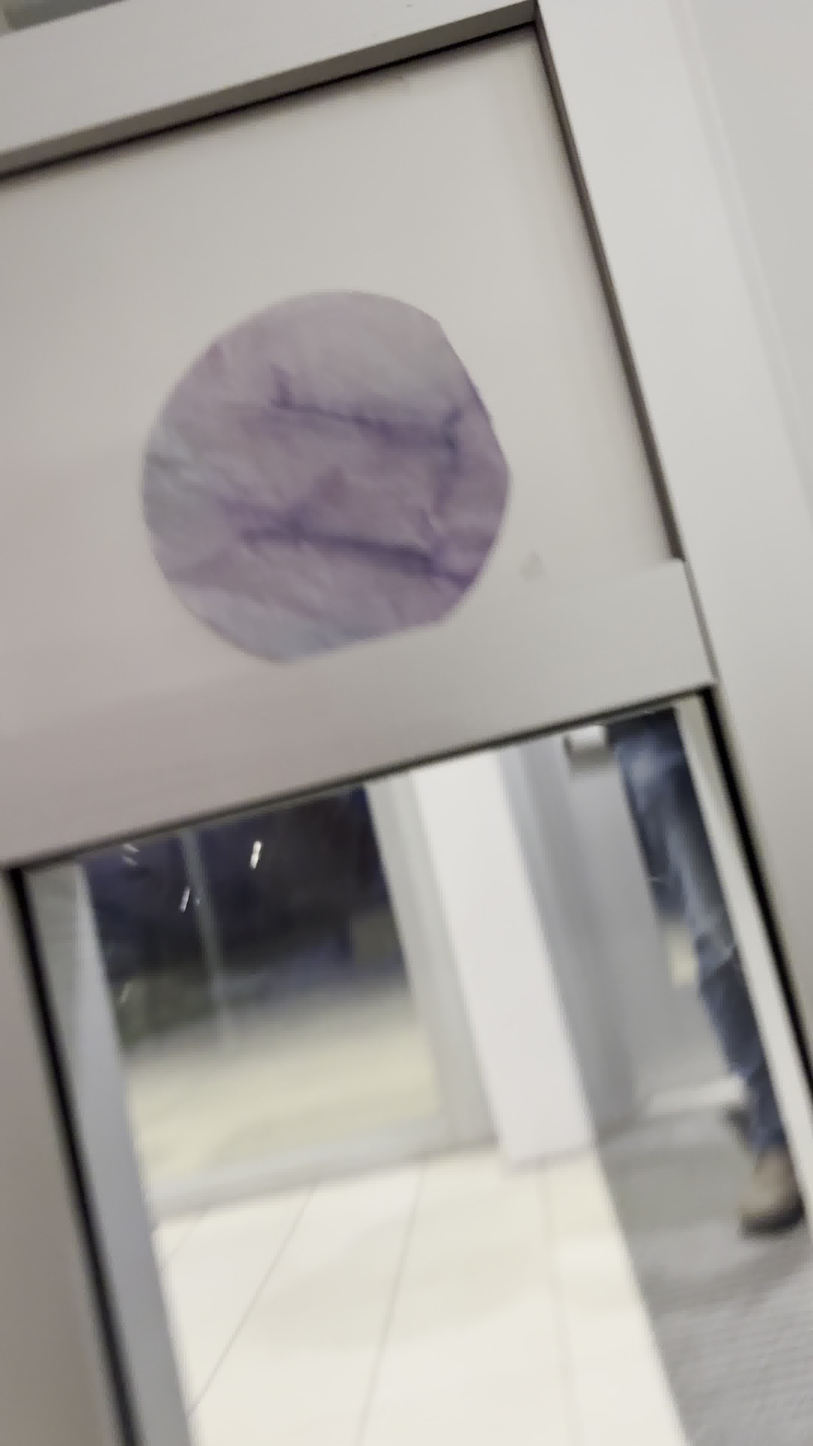Target: (121, 277, 528, 681)
